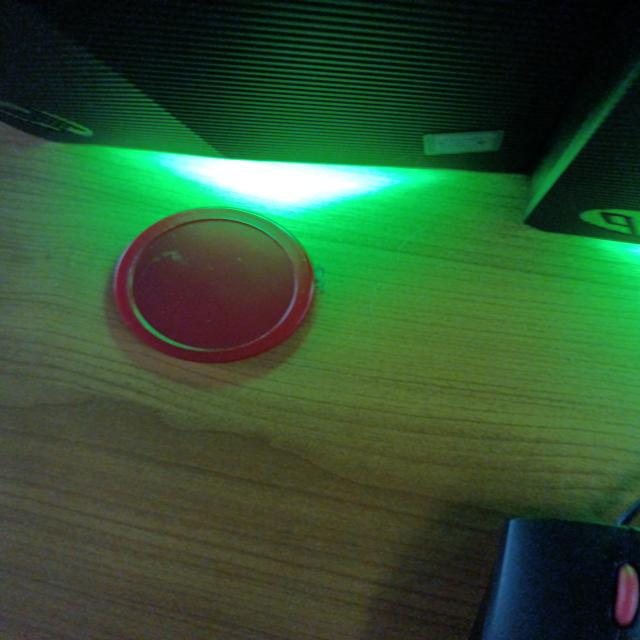chip: (110, 205, 320, 363)
